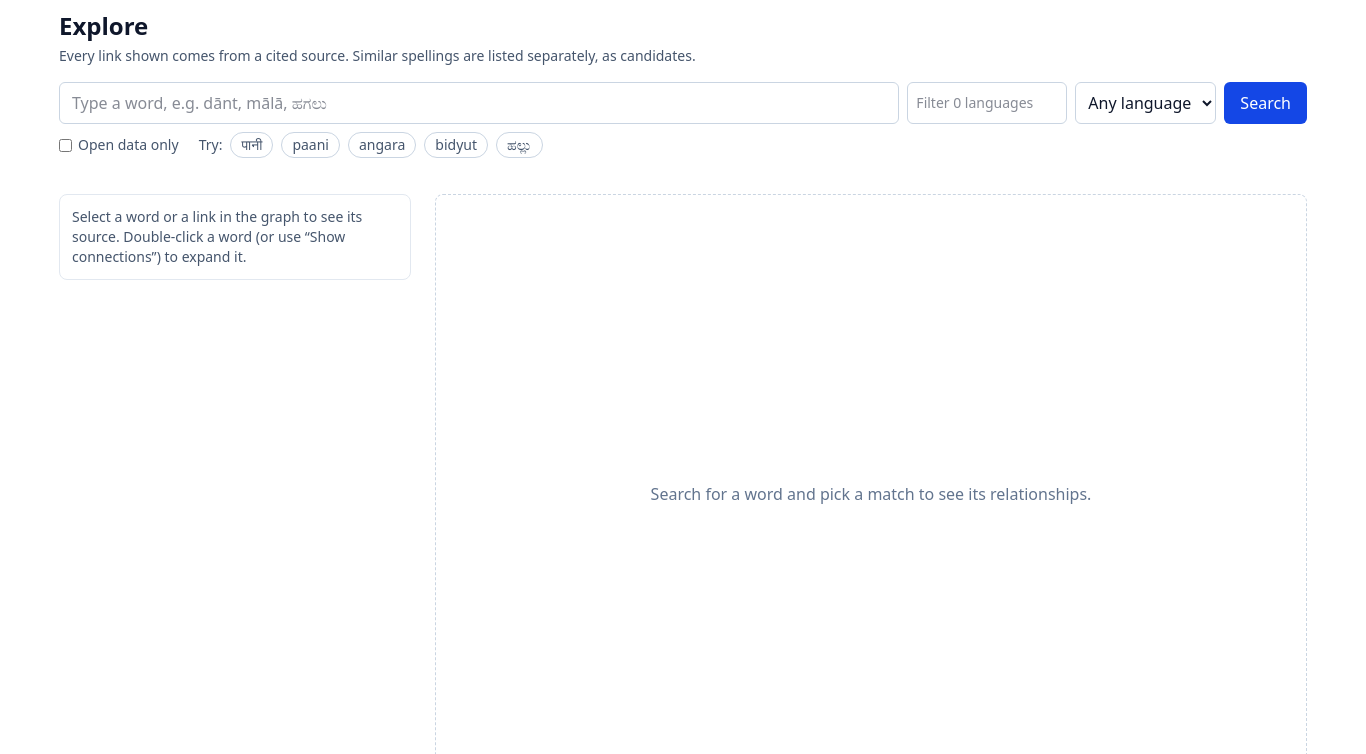
Test case: ExplorePage follows the URL and drops stale data › "Open data only" drops the old matches and a late graph when there is no query
The width and height of the screenshot is (1366, 754).
Type "dānt" into the field labelled "word" at (479, 103), box [59,82,899,124]
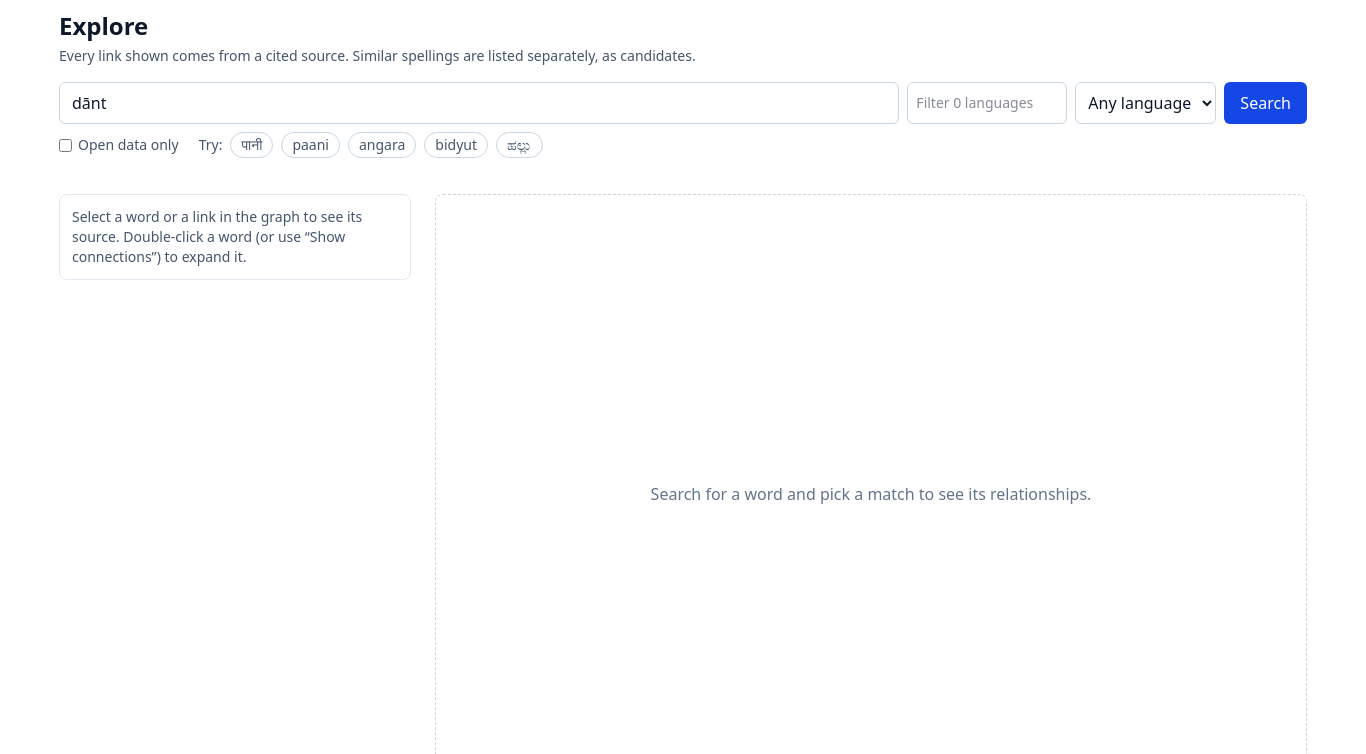
Click the button "Search" at (1266, 103), box [1224,82,1307,124]
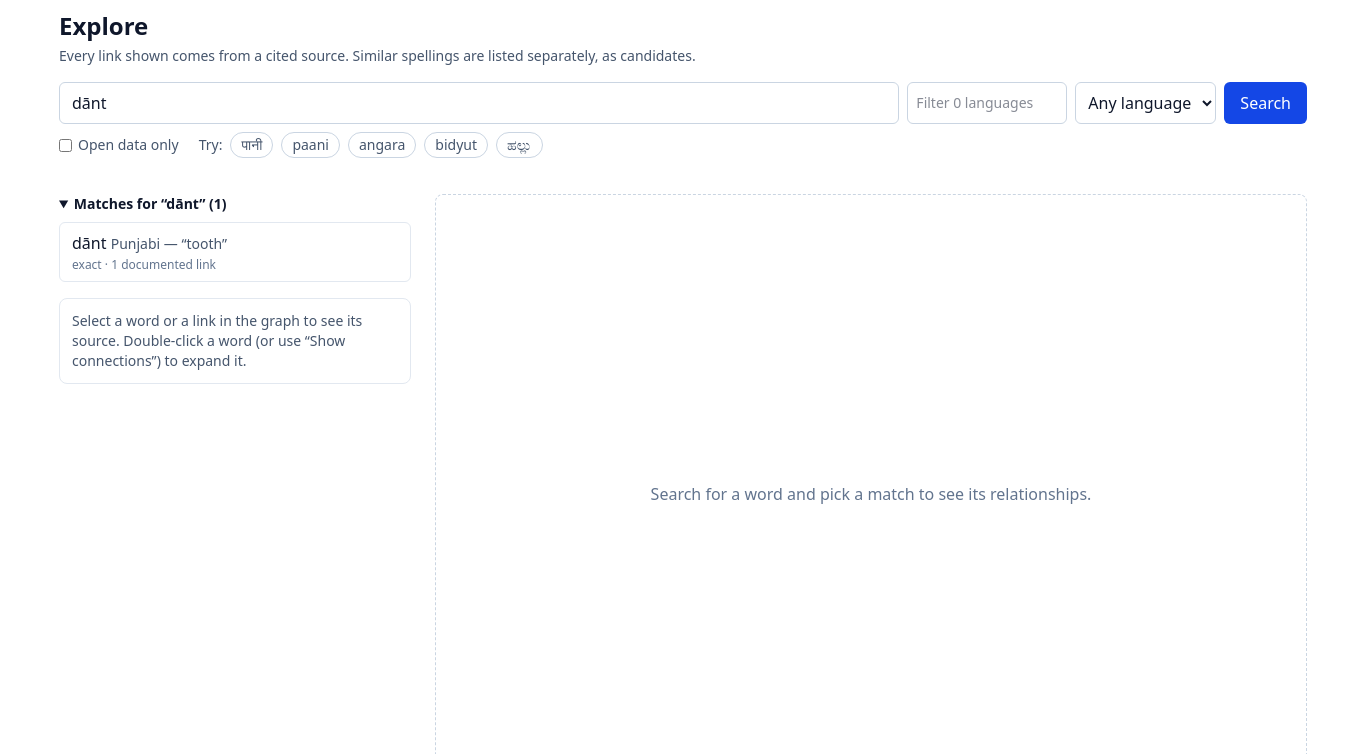
Click the button "dānt Punjabi — “tooth” exact · 1 documented link" at (89, 243), box [59,222,411,282]
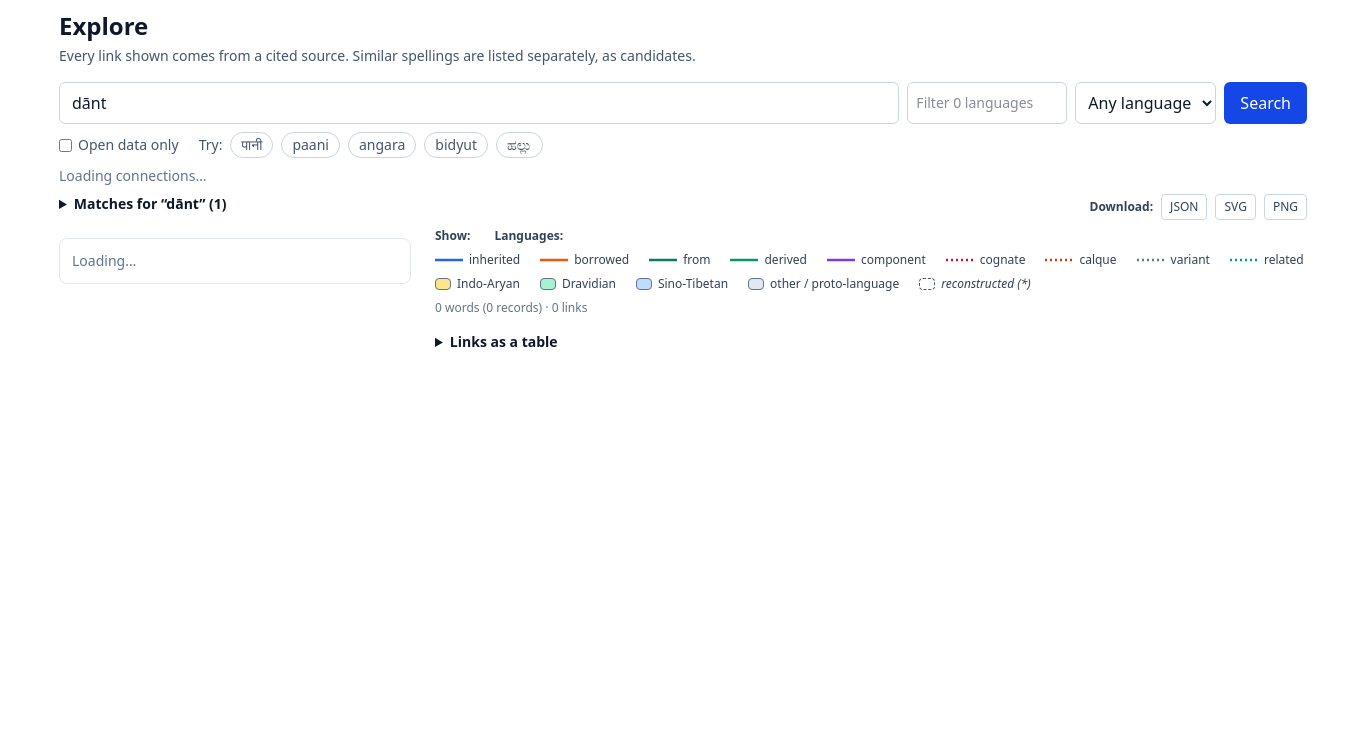
Clear the field named "word" at (479, 103), box [59,82,899,124]
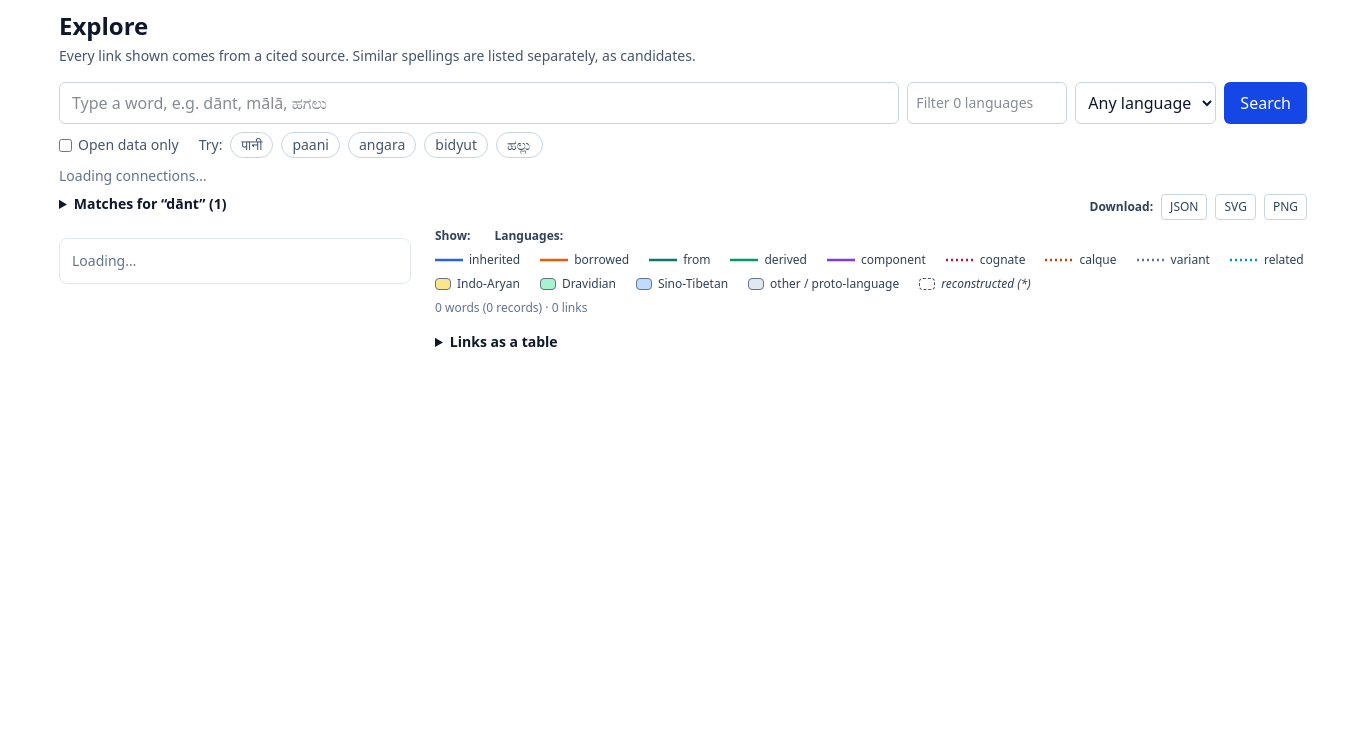
Click the checkbox labelled "Open data only" at (66, 145), box [59,138,72,152]
(page scrolled)
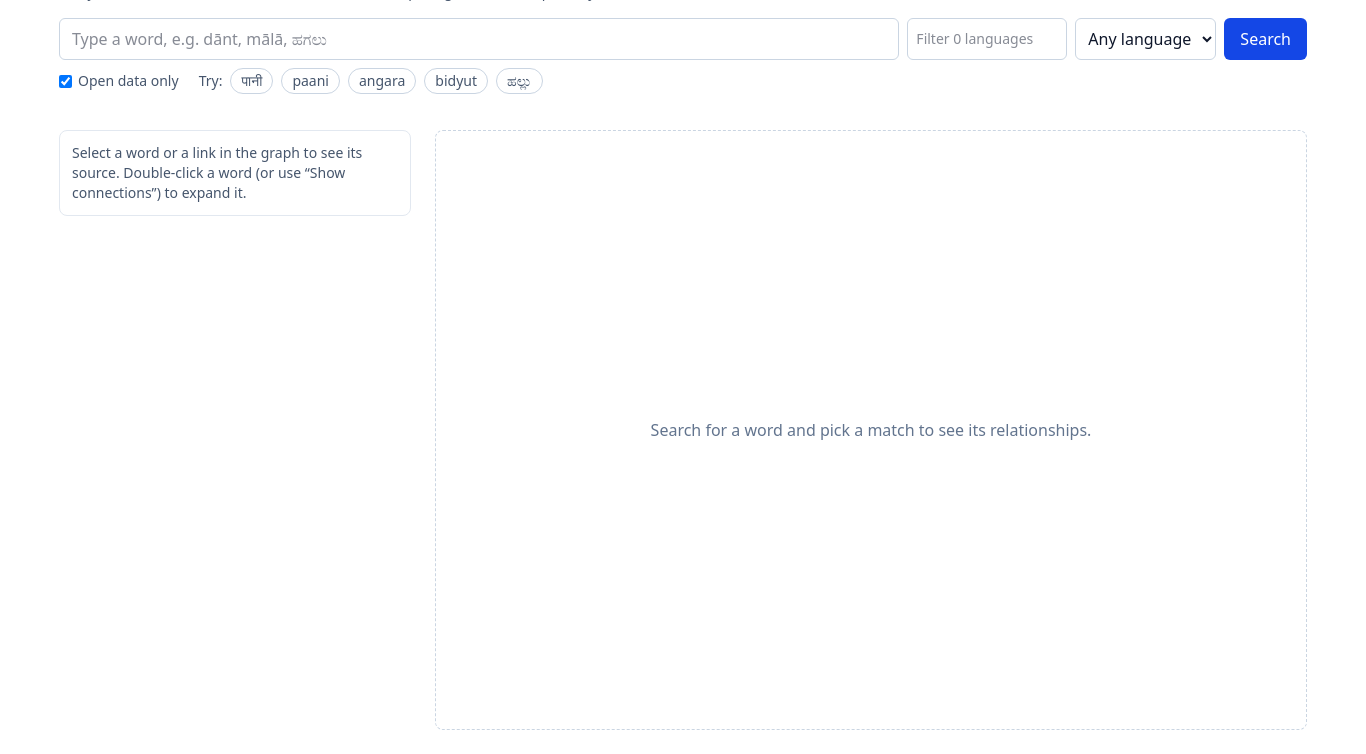
Check: the heading "Matches for" is gone
Check: the text "Search for a word and pick a match to see its relationships." is shown, box [435,130,1307,730]
